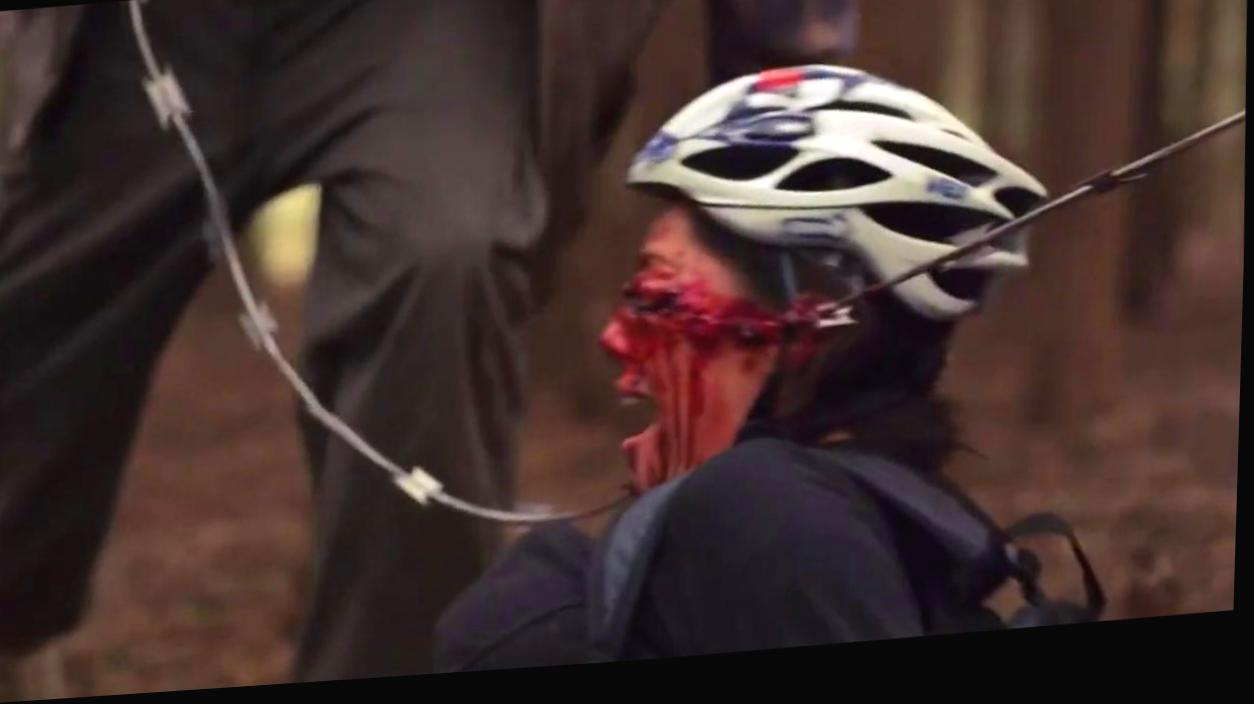Fire: (605, 220, 853, 502)
